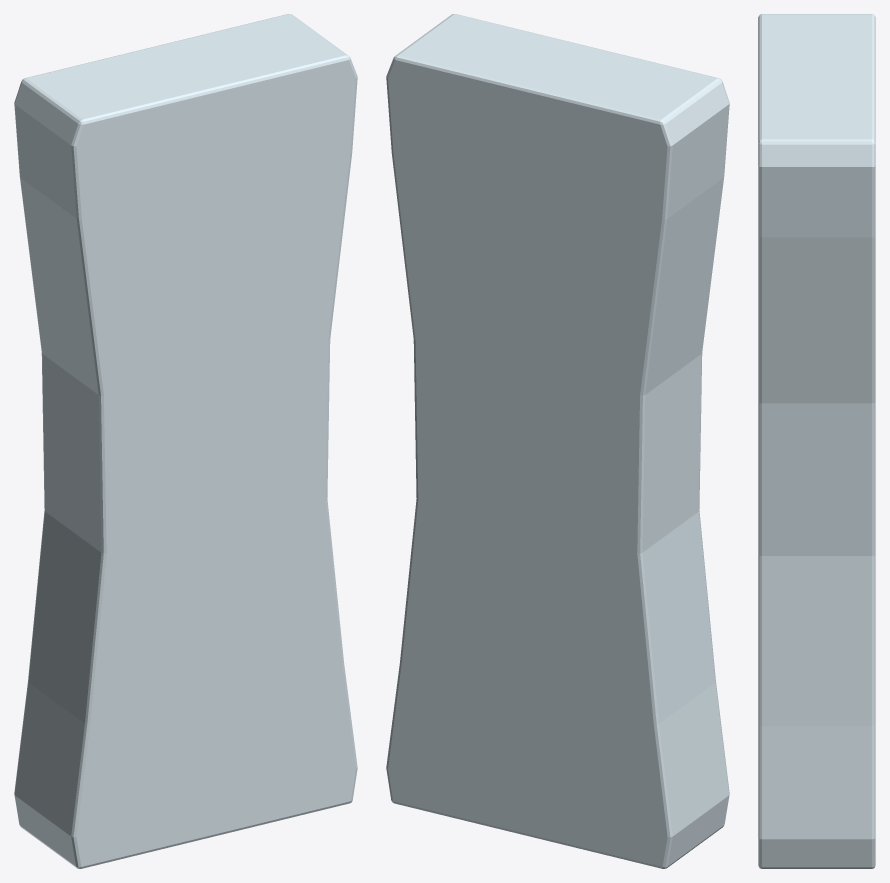
The model's file is water_timer.obj.
3 views of the same model, side by side, from view 1: azimuth 30°, elevation 25°; view 2: azimuth 150°, elevation 25°; view 3: azimuth 270°, elevation 25° (orthographic). The views are drawn at different scales.
Parts seen in each view (by area): view 1: Timer_Acrylic_Casing; view 2: Timer_Acrylic_Casing; view 3: Timer_Acrylic_Casing.
Part boxes in pixels (x1=…): Timer_Acrylic_Casing: x1=14, y1=14, x2=357, y2=868; Timer_Acrylic_Casing: x1=386, y1=14, x2=729, y2=868; Timer_Acrylic_Casing: x1=758, y1=14, x2=875, y2=868.
Bounding box in the file's own units: 0.104 × 0.26 × 0.038.
